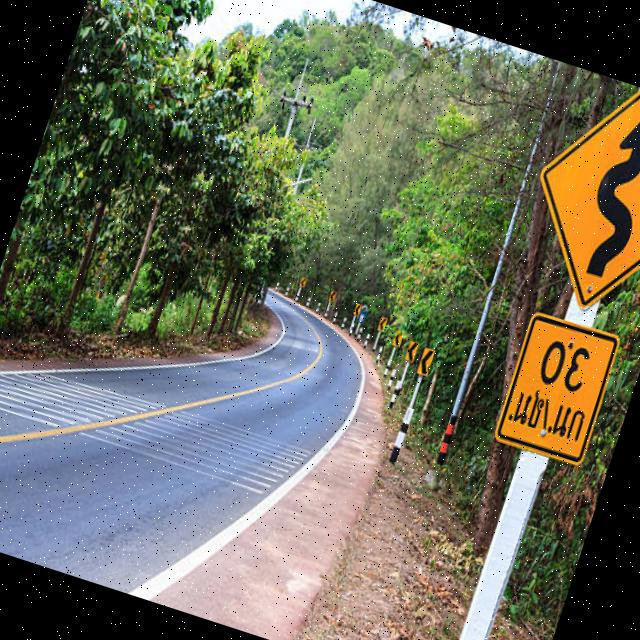left_sharp_curve: (498, 64, 640, 330)
